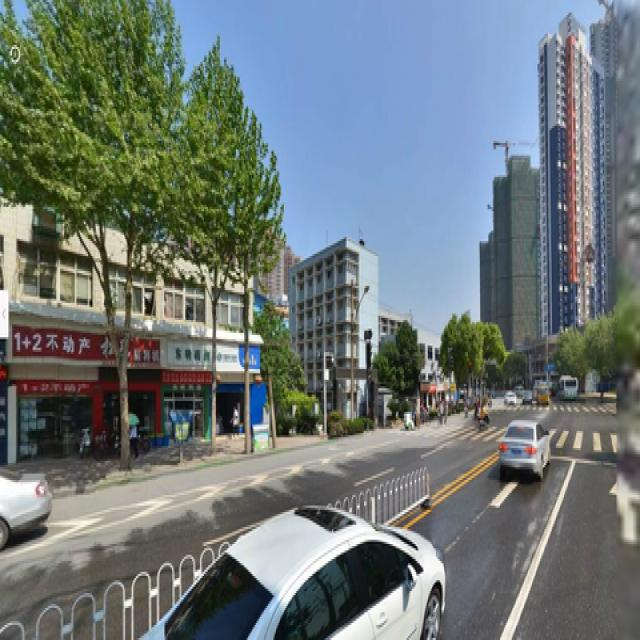meta: (27, 19, 180, 465), (188, 68, 256, 463)
